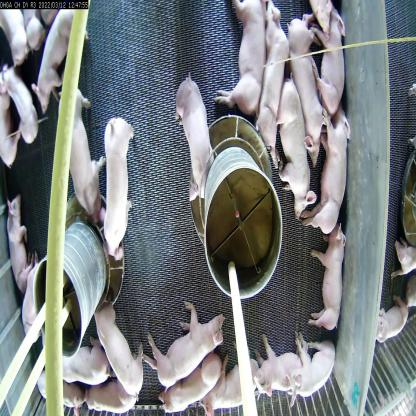Pig: (144, 304, 232, 390), (282, 0, 330, 151), (276, 71, 319, 216), (171, 71, 219, 200), (92, 288, 148, 397), (34, 0, 86, 106), (61, 80, 100, 214), (260, 0, 289, 165), (314, 213, 350, 339), (102, 112, 130, 256), (158, 355, 229, 410), (4, 57, 45, 150), (4, 181, 36, 297), (287, 332, 338, 401), (237, 0, 266, 120), (252, 335, 303, 397), (326, 111, 351, 232), (379, 296, 410, 342)
